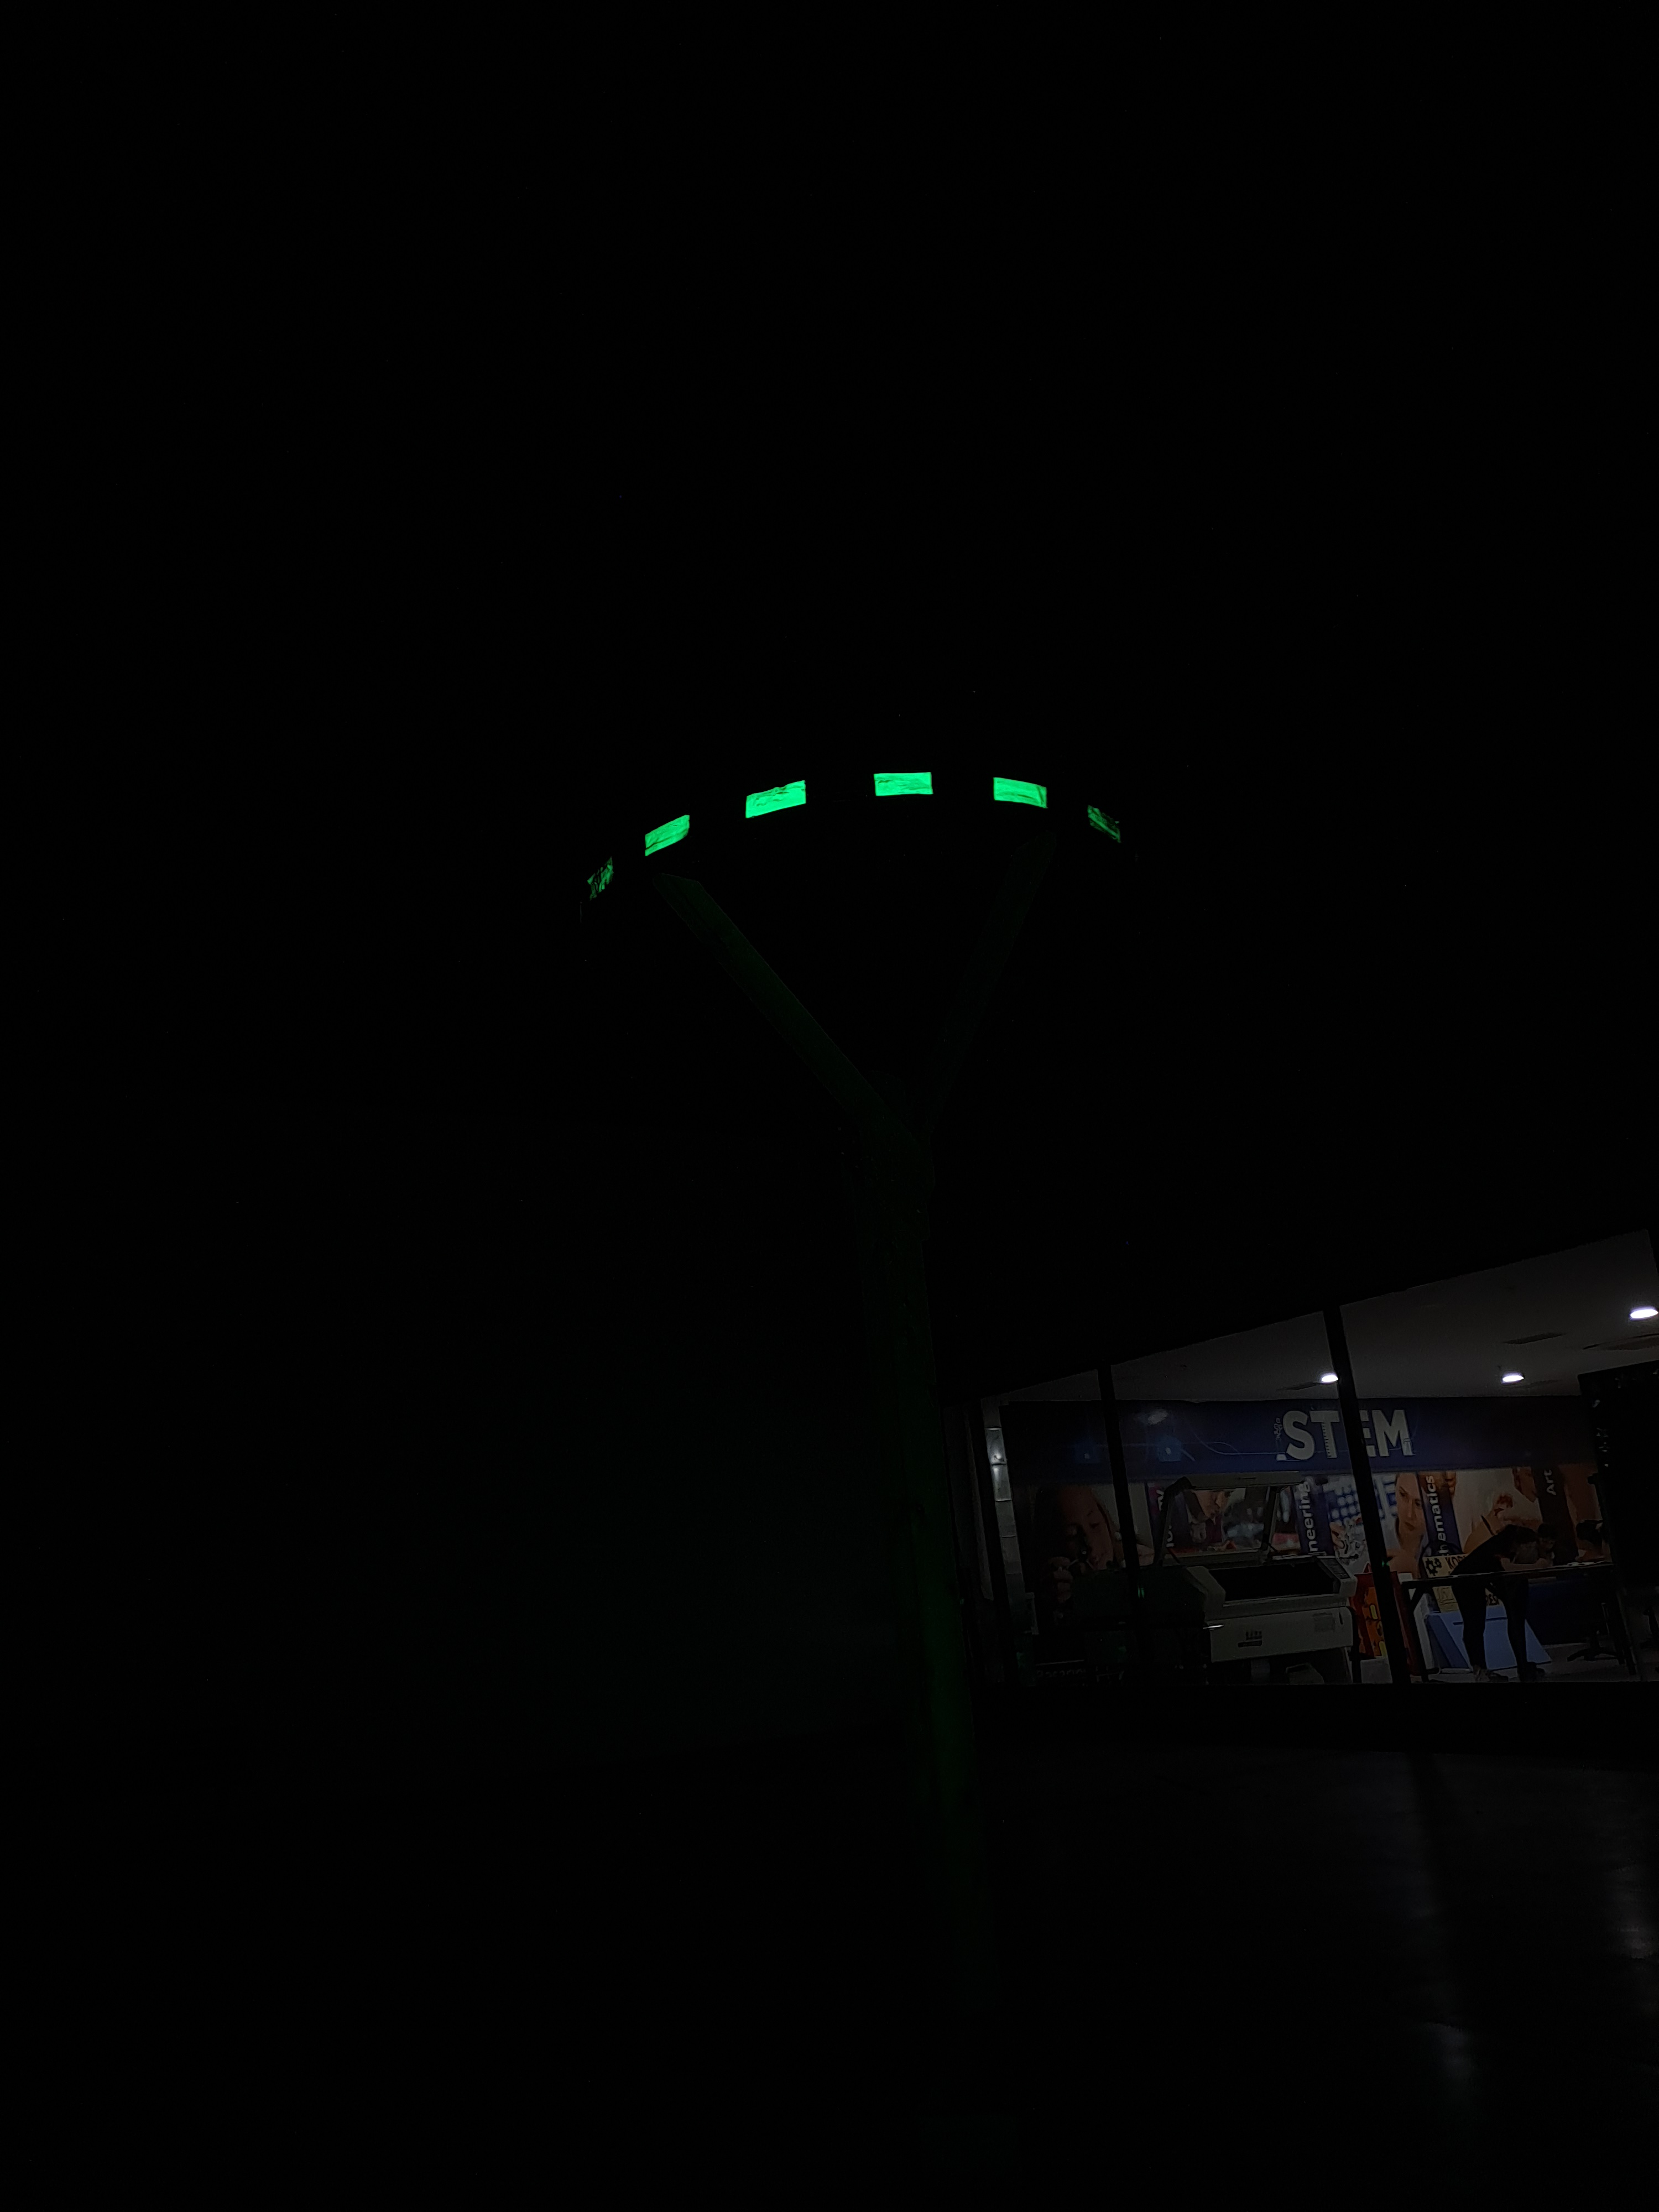hoop: (589, 768, 1126, 895)
